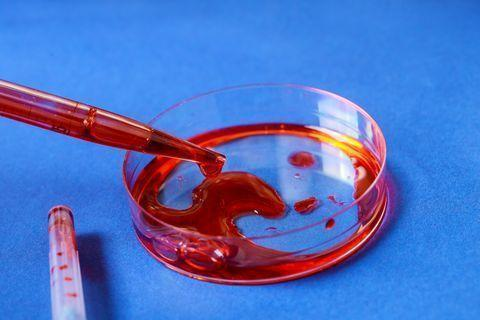Fire: (0, 80, 391, 285)
